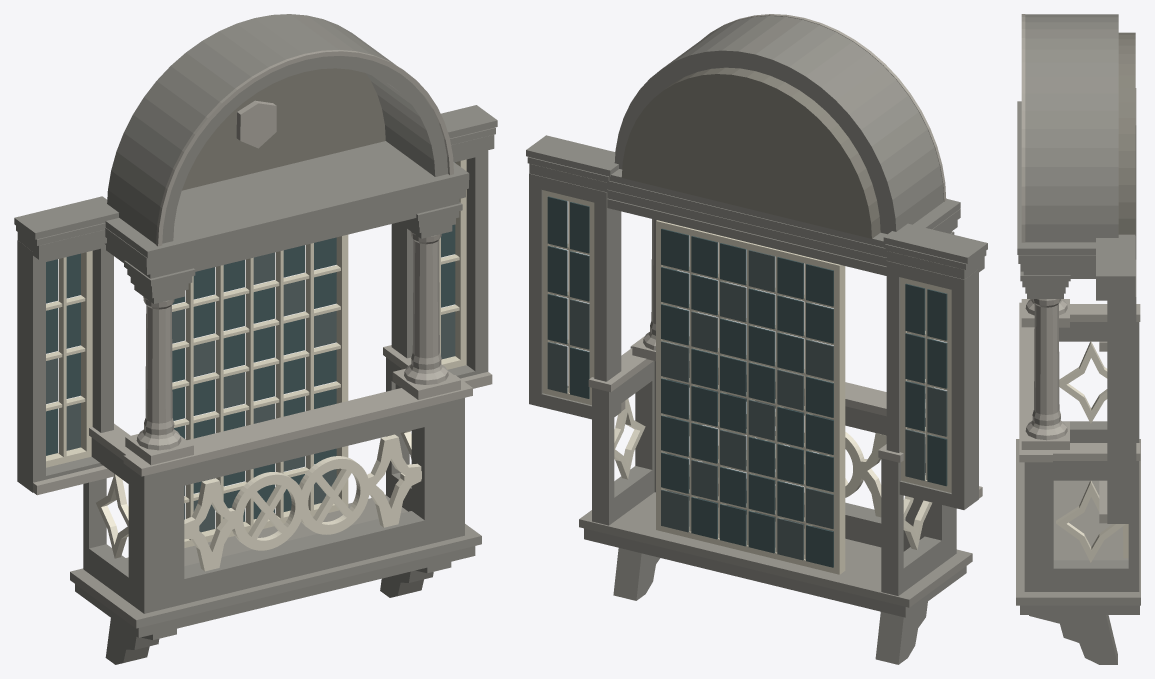
Rendered from xuhui-yongjia-630-arched-balcony-lod.glb.
3 renders of one model, left to right at view 1: azimuth 30°, elevation 25°; view 2: azimuth 150°, elevation 25°; view 3: azimuth 270°, elevation 25°, orthographic. The views are drawn at different scales.
Parts seen in each view (by area): view 1: 永嘉路630号花园住宅二层拱窗与菱格阳台; view 2: 永嘉路630号花园住宅二层拱窗与菱格阳台; view 3: 永嘉路630号花园住宅二层拱窗与菱格阳台.
Part boxes in pixels (x1,y1,x2,y2): 永嘉路630号花园住宅二层拱窗与菱格阳台: (14, 14, 497, 664); 永嘉路630号花园住宅二层拱窗与菱格阳台: (526, 14, 987, 664); 永嘉路630号花园住宅二层拱窗与菱格阳台: (1016, 14, 1140, 664).
Bounding box in the file's own units: 5.19 × 6.47 × 1.29.
